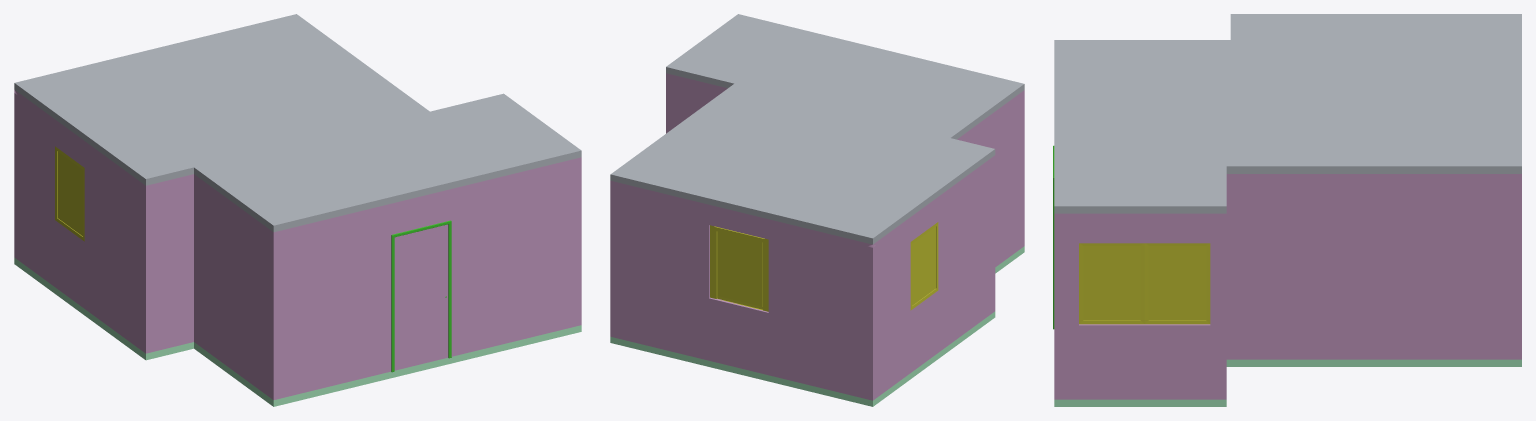
Rendered from FloorPlan2_physics.fbx.
3 renders of one model, left to right at view 1: azimuth 30°, elevation 25°; view 2: azimuth 150°, elevation 25°; view 3: azimuth 270°, elevation 25°, orthographic. The views are drawn at different scales.
Visible parts, largest first — view 1: StandardWallSize, Ceiling, Floor, polySurface1, StandardDoorFrame1, StandardWindow1; view 2: StandardWallSize, Ceiling, polySurface2, Floor, polySurface1, WindowTreatment2, WindowTreatment1, StandardWindow1; view 3: Ceiling, StandardWallSize, polySurface3, Floor, StandardWindow1 (2), StandardWindow1 (3).
Part boxes in pixels (x1=…): StandardWallSize: x1=14, y1=90, x2=581, y2=400; Ceiling: x1=14, y1=14, x2=581, y2=232; Floor: x1=14, y1=257, x2=581, y2=406; polySurface1: x1=57, y1=152, x2=82, y2=236; StandardDoorFrame1: x1=391, y1=220, x2=451, y2=372; StandardWindow1: x1=55, y1=146, x2=84, y2=241; StandardWallSize: x1=610, y1=73, x2=1024, y2=400; Ceiling: x1=610, y1=14, x2=1024, y2=244; polySurface2: x1=718, y1=231, x2=762, y2=306; Floor: x1=610, y1=246, x2=1024, y2=406; polySurface1: x1=912, y1=227, x2=935, y2=305; WindowTreatment2: x1=713, y1=226, x2=766, y2=310; WindowTreatment1: x1=710, y1=225, x2=768, y2=311; StandardWindow1: x1=910, y1=222, x2=938, y2=310; Ceiling: x1=1054, y1=14, x2=1521, y2=213; StandardWallSize: x1=1054, y1=174, x2=1521, y2=399; polySurface3: x1=1083, y1=246, x2=1206, y2=319; Floor: x1=1054, y1=359, x2=1521, y2=406; StandardWindow1 (2): x1=1144, y1=243, x2=1210, y2=324; StandardWindow1 (3): x1=1079, y1=243, x2=1144, y2=324.
Bounding box in the file's own units: 555 × 270 × 572.
